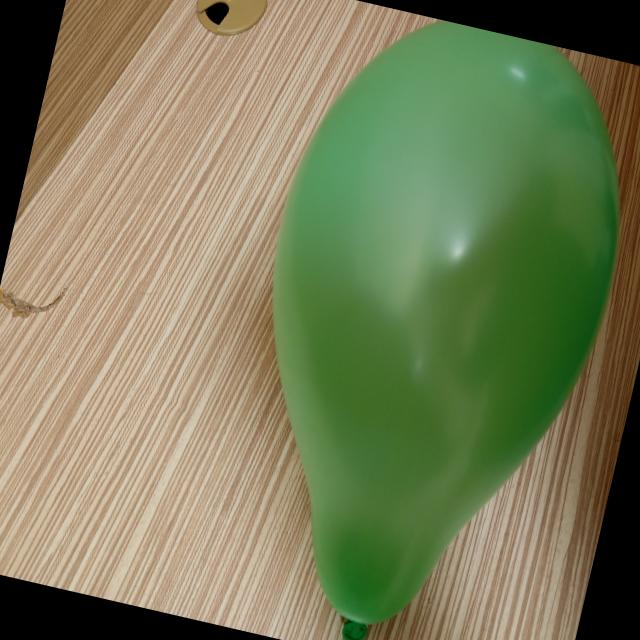balloon: (272, 20, 619, 640)
